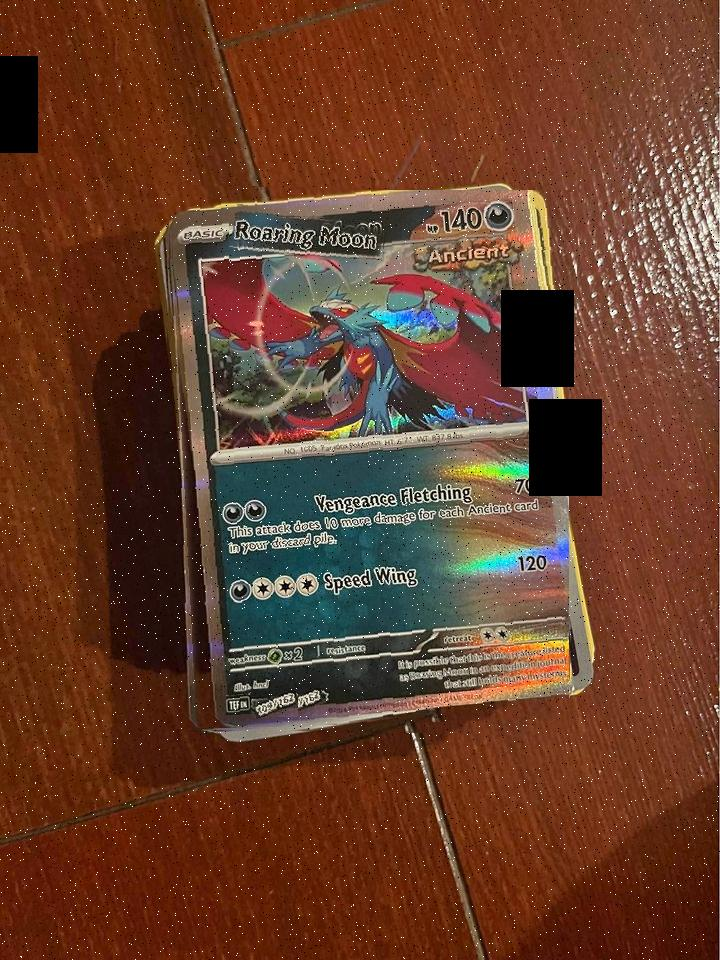card: (171, 190, 569, 729)
name: (229, 217, 383, 257)
set num: (252, 689, 298, 718)
set symbol: (226, 695, 251, 715)
